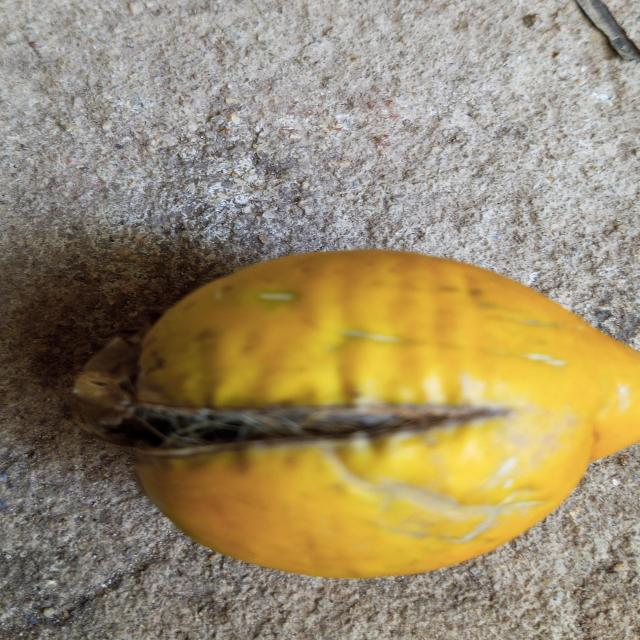damaged: (72, 249, 640, 582)
